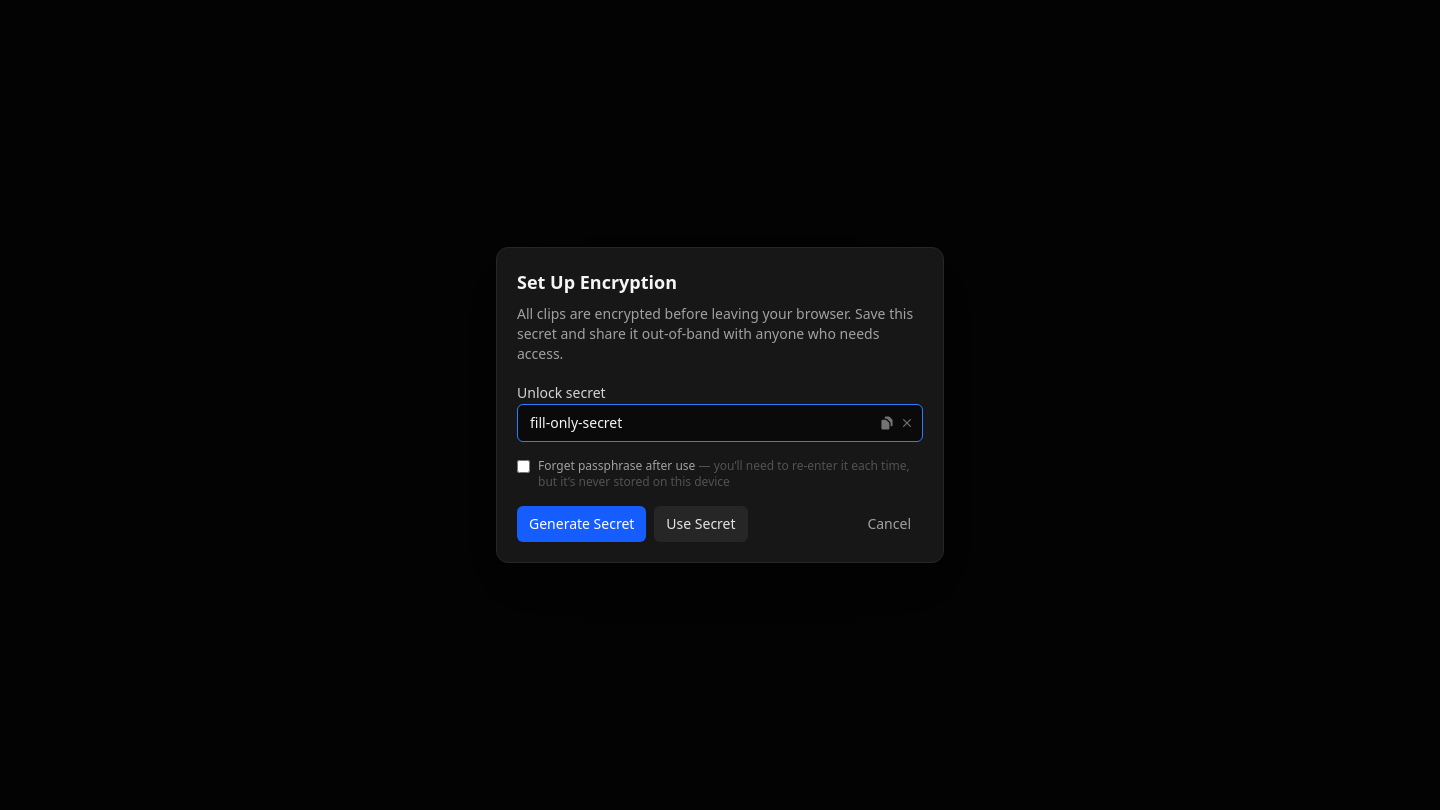
Test case: SecretPrompt › forget-passphrase checked validates empty secret
Click the button named "Clear" at (907, 423), box [899,415,915,431]
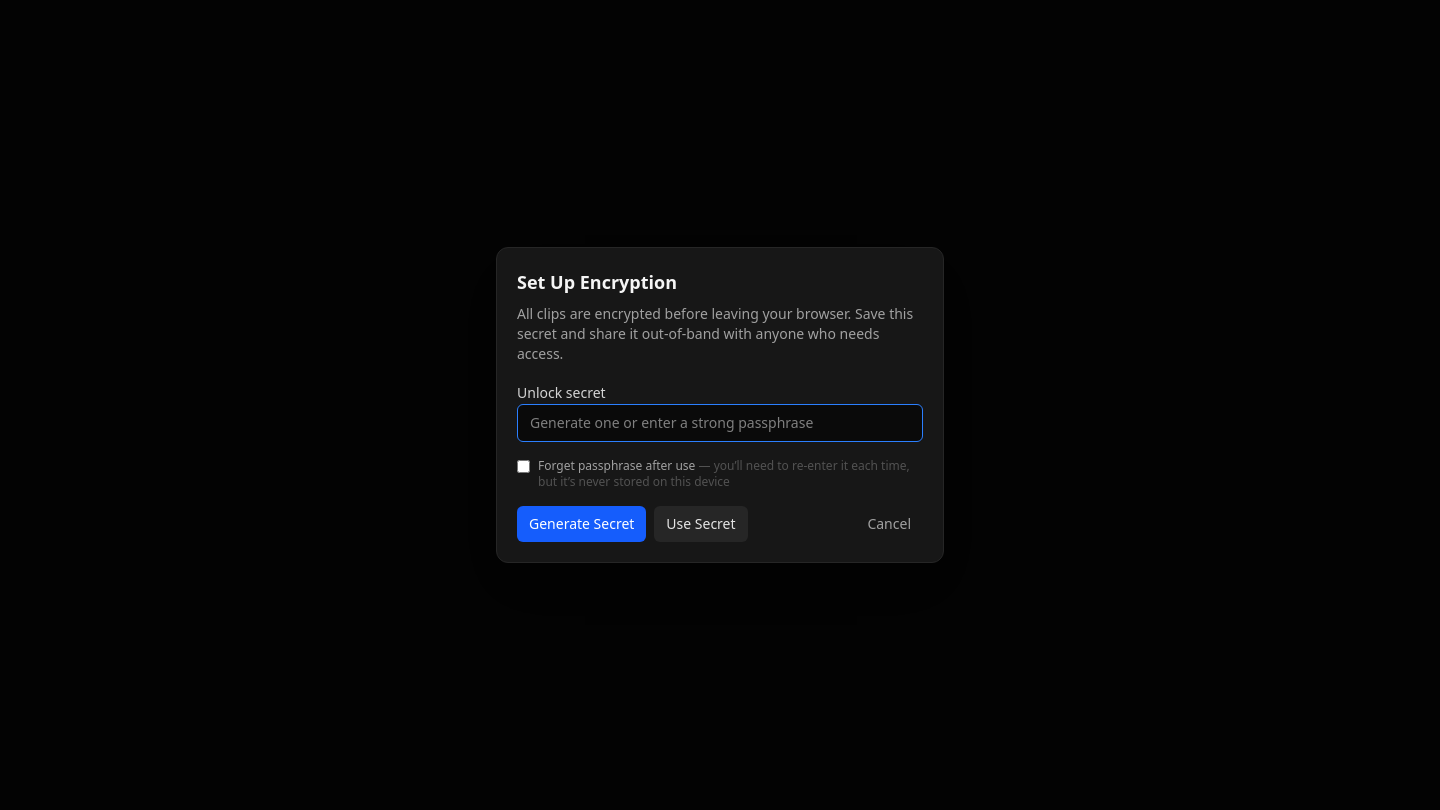
Click the checkbox at (524, 466), box [517,460,530,473]
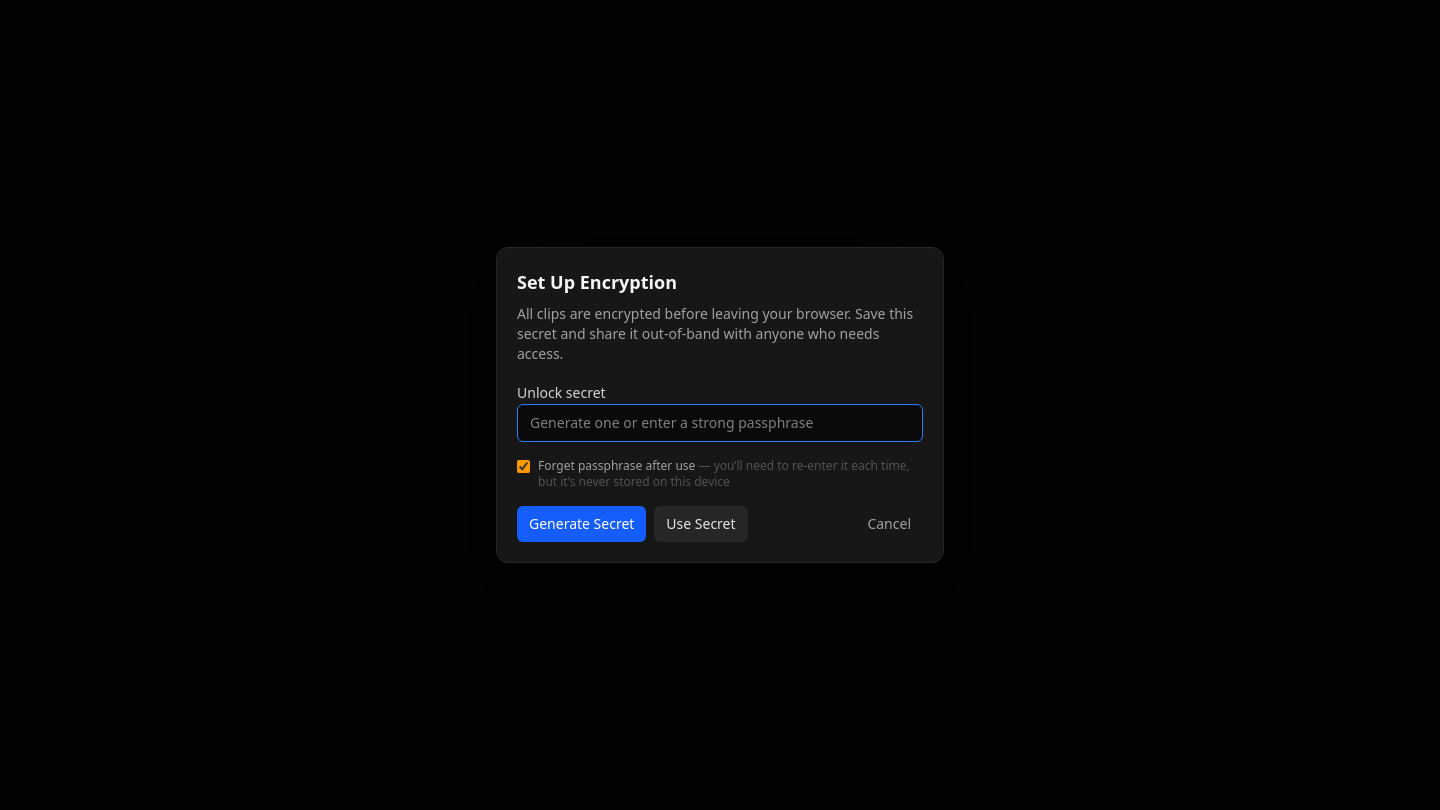
Click the button "Use Secret" at (701, 524), box [654,506,748,542]
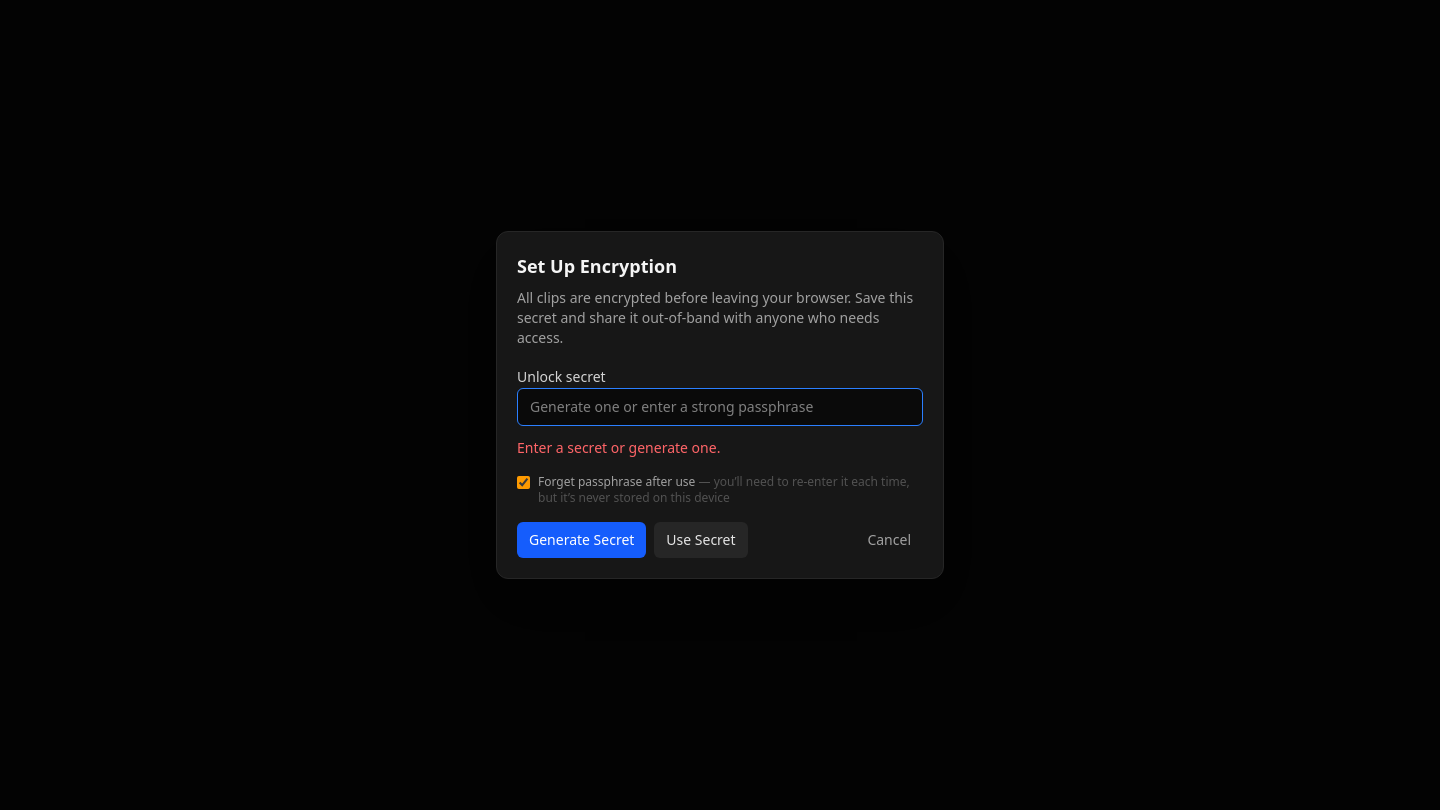
expect the message shows "Enter a secret": met, box [517,438,720,457]
